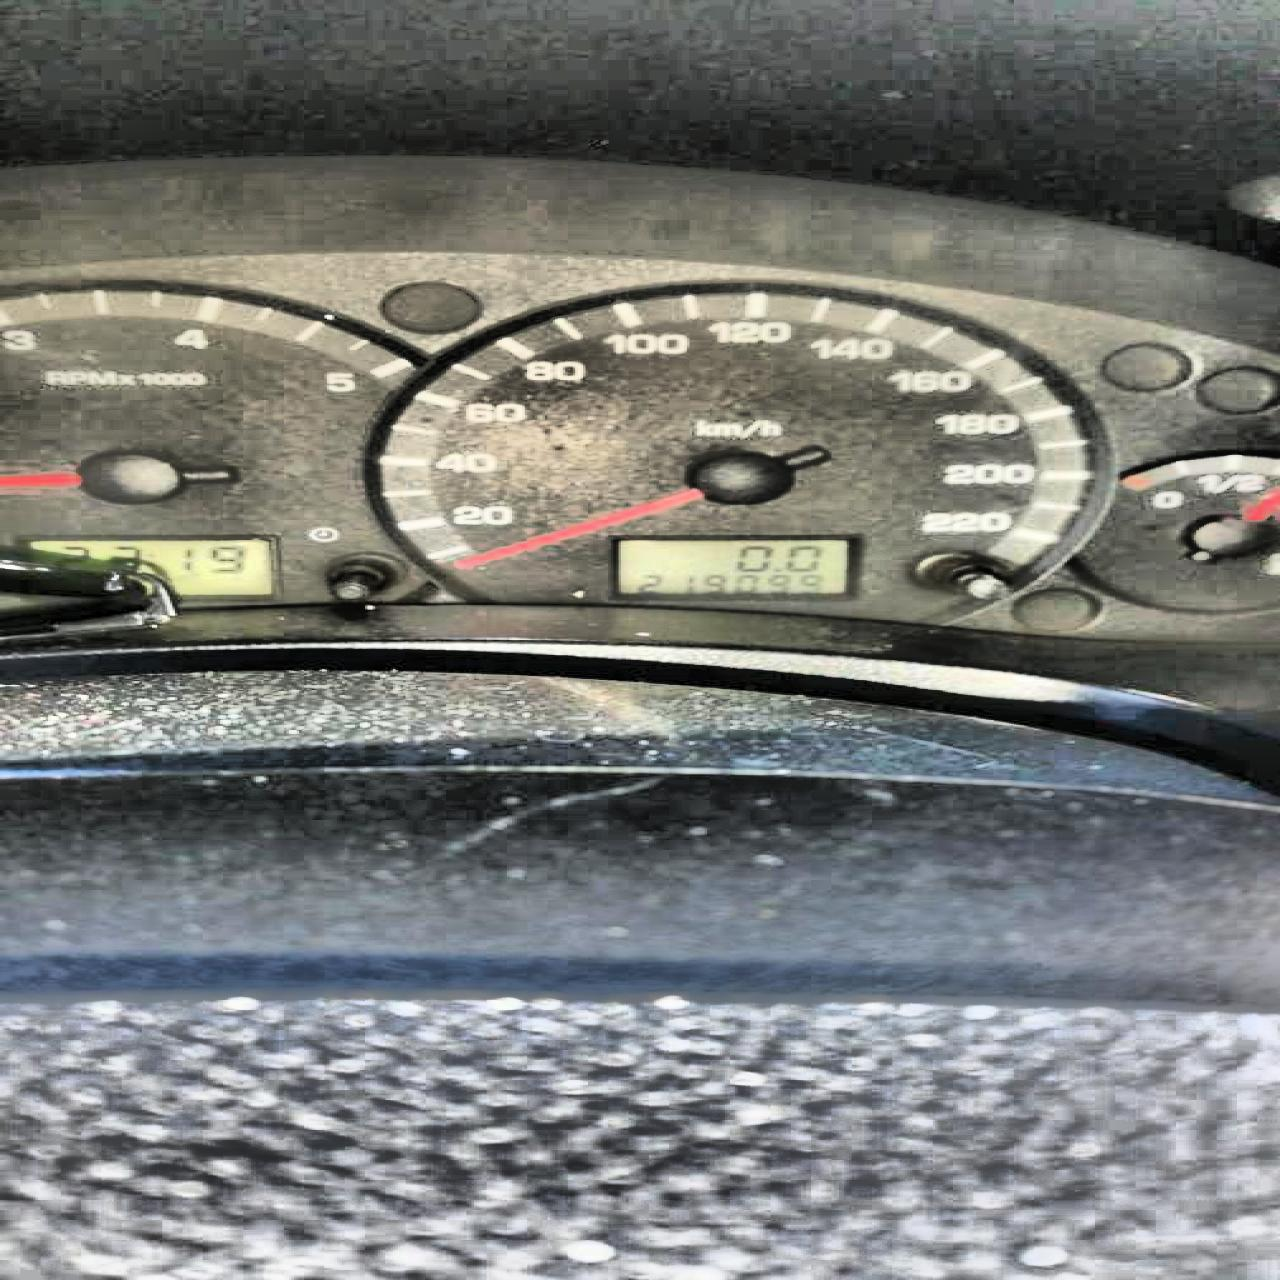-: (770, 566, 781, 572)
0: (733, 545, 768, 570), (785, 545, 818, 570), (733, 573, 757, 592)
1: (676, 573, 694, 592)
2: (633, 572, 661, 592)
9: (796, 572, 822, 592), (765, 572, 791, 592), (700, 573, 724, 592)
odometer: (606, 535, 857, 600)
